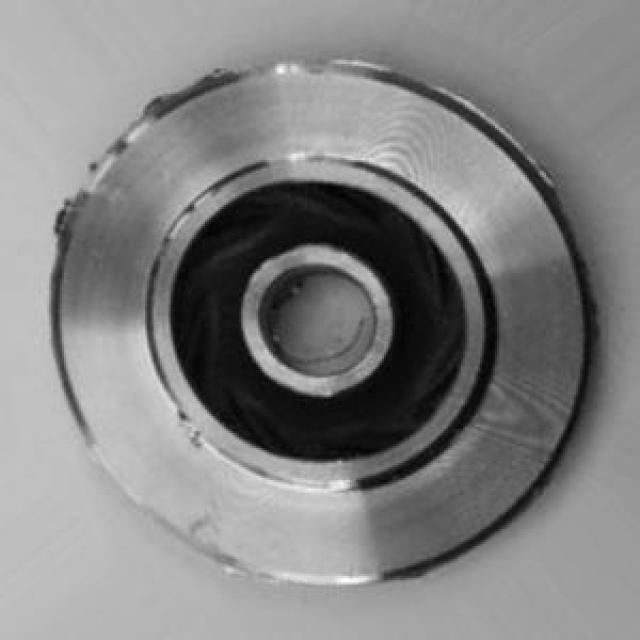Defect: (121, 80, 204, 121)
